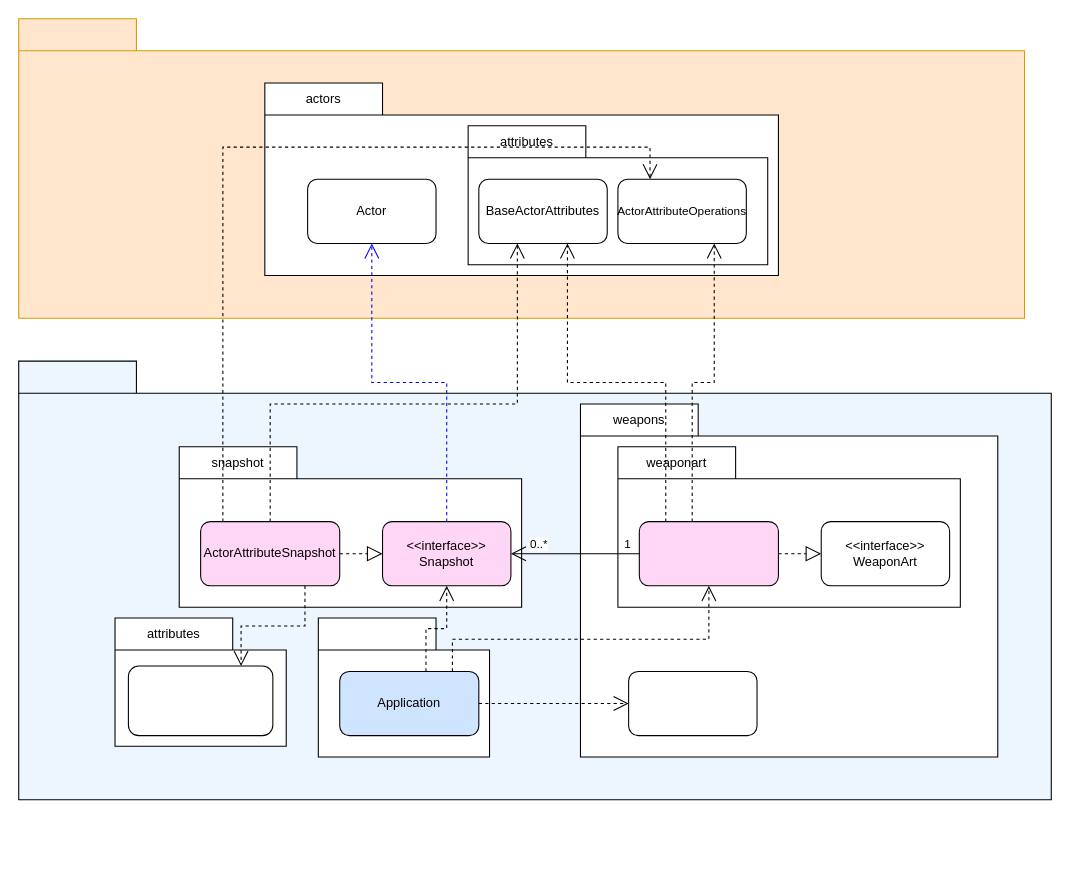
The diagram is 1070 pixels wide and 872 high, and some of its shapes have lost their labels. The box of each missing label's shape, as (x1, y1, x2, y2) in pixels:
engine: (18, 18, 1025, 318)
game: (18, 360, 1051, 800)
GreatKnife: (628, 670, 757, 736)
Memento: (638, 521, 778, 586)
NewBaseActorAttributes: (127, 665, 273, 736)
Utility: (317, 617, 490, 757)
